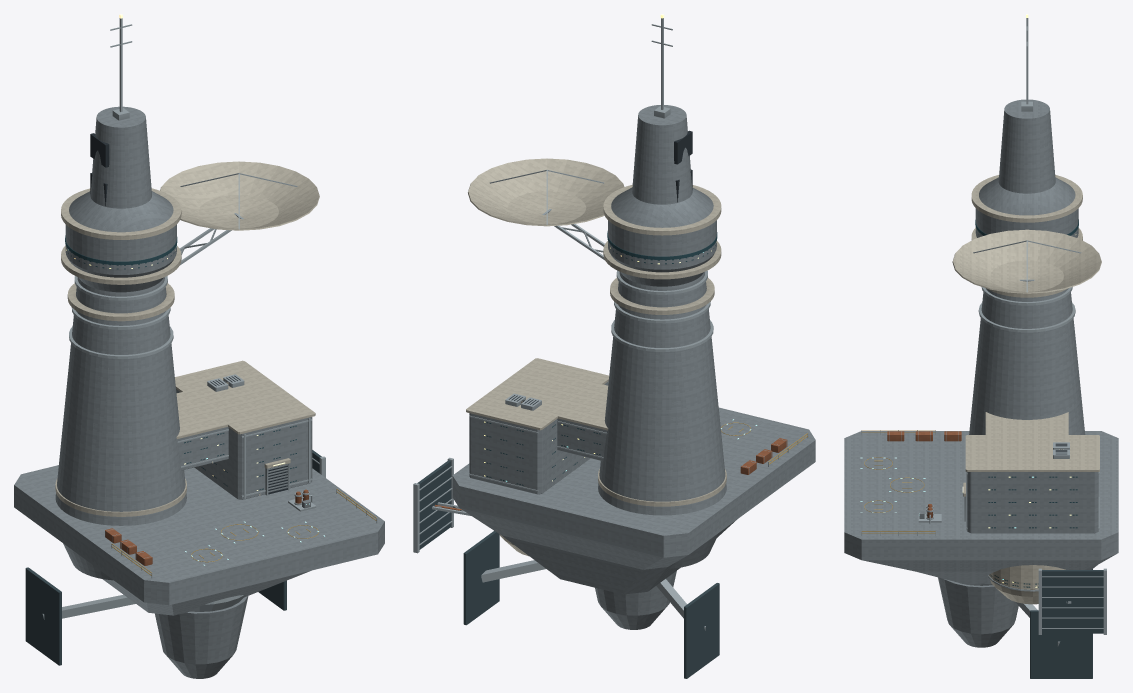
File: shepherd.glb
3 renders of one model, left to right at view 1: azimuth 30°, elevation 25°; view 2: azimuth 150°, elevation 25°; view 3: azimuth 270°, elevation 25°, orthographic. The views are drawn at different scales.
Parts seen in each view (by area): view 1: shepherd / hull, shepherd / armor, shepherd / metal, shepherd / radiator, shepherd / dark, shepherd / glass, shepherd / copper; view 2: shepherd / hull, shepherd / armor, shepherd / radiator, shepherd / metal, shepherd / glass, shepherd / copper, shepherd / dark; view 3: shepherd / hull, shepherd / armor, shepherd / radiator, shepherd / metal, shepherd / copper, shepherd / ochre, shepherd / glass.
Part boxes in pixels (bbox=[...]): shepherd / hull: bbox=[14, 106, 384, 678]; shepherd / armor: bbox=[55, 161, 319, 516]; shepherd / metal: bbox=[42, 18, 377, 619]; shepherd / radiator: bbox=[25, 450, 321, 665]; shepherd / dark: bbox=[90, 133, 287, 494]; shepherd / glass: bbox=[65, 235, 296, 490]; shepherd / copper: bbox=[105, 489, 308, 565]; shepherd / hull: bbox=[452, 105, 815, 629]; shepherd / armor: bbox=[466, 158, 726, 556]; shepherd / radiator: bbox=[417, 460, 719, 678]; shepherd / metal: bbox=[413, 18, 808, 630]; shepherd / glass: bbox=[486, 231, 717, 485]; shepherd / copper: bbox=[435, 438, 787, 510]; shepherd / dark: bbox=[509, 130, 692, 405]; shepherd / hull: bbox=[844, 99, 1118, 647]; shepherd / armor: bbox=[952, 175, 1101, 604]; shepherd / radiator: bbox=[1030, 569, 1103, 678]; shepherd / metal: bbox=[861, 18, 1106, 646]; shepherd / copper: bbox=[887, 431, 961, 518]; shepherd / ochre: bbox=[861, 430, 935, 533]; shepherd / glass: bbox=[975, 219, 1078, 587].
Size of the model in its own units: 70.7 by 158 by 65.34.
Materials: 10 (4 with a texture image).
